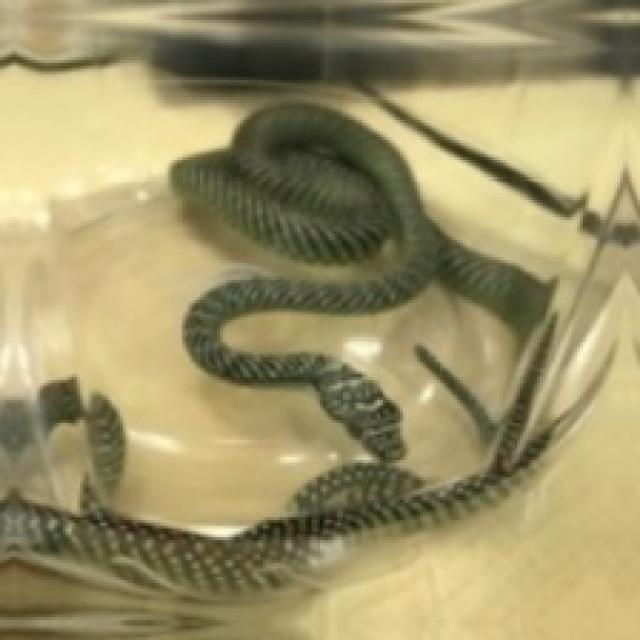paradise tree snake: (0, 103, 637, 637), (171, 103, 549, 457), (220, 291, 520, 483)
